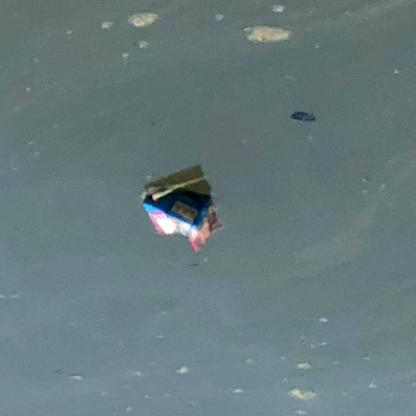Trash: (138, 181, 223, 256)
